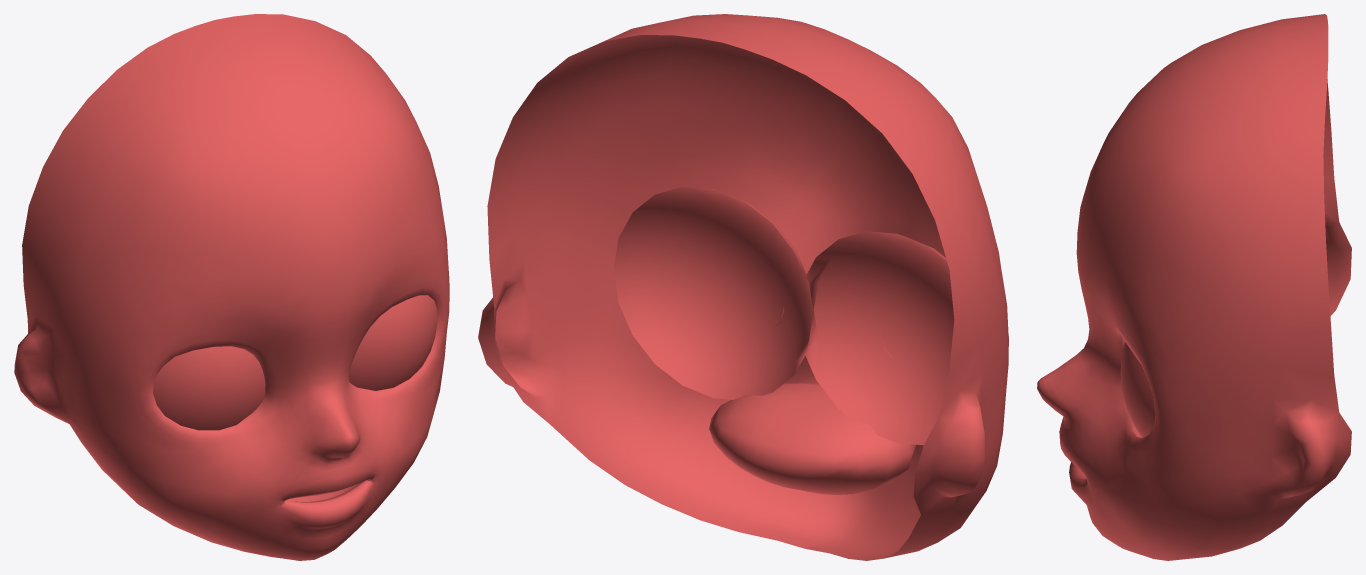
File: cartoon-face.glb
3 views of the same model, side by side, from view 1: azimuth 30°, elevation 25°; view 2: azimuth 150°, elevation 25°; view 3: azimuth 270°, elevation 25° (orthographic). The views are drawn at different scales.
Visible parts, largest first — view 1: xx; view 2: xx; view 3: xx.
Boxes of the visible parts, x1,y1,x2,y2 form: xx: [14, 14, 449, 560]; xx: [478, 14, 1008, 560]; xx: [1037, 14, 1351, 560].
Size of the model in its own units: 1.27 by 1.38 by 0.7787.
